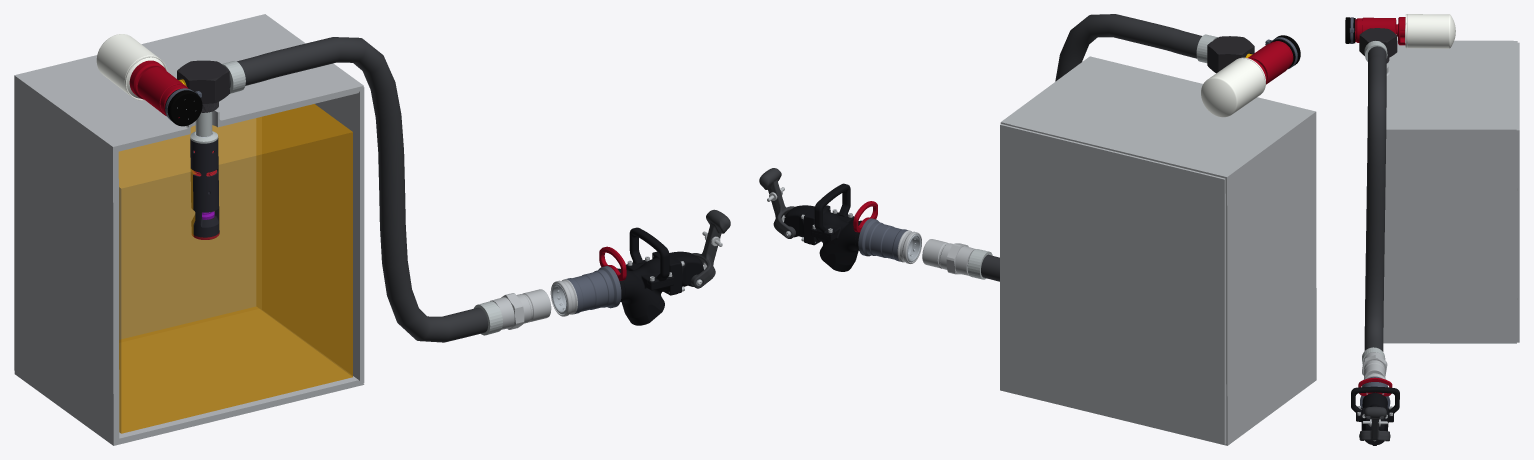
The model's file is system-pla80-v2.glb.
3 renders of one model, left to right at view 1: azimuth 30°, elevation 25°; view 2: azimuth 150°, elevation 25°; view 3: azimuth 270°, elevation 25°, orthographic. The views are drawn at different scales.
Parts seen in each view (by area): view 1: arbtank_No Back001_export, Cube.001_export, Cube_export, BézierCurve_export, N800AT Body Mod_export, FFV150-LP_export, pl80-m-3b_export, N800AT Body Mod041_export, fr1000-m-1_export, pl80HVO-m-10_export, N800AT Body Mod010_export, N800AT Body Mod017_export (+4 smaller); view 2: Cube_export, arbtank_No Back001_export, BézierCurve_export, FFV150-LP_export, N800AT Body Mod_export, N800AT Body Mod041_export, fr1000-m-1_export, pl80-m-3b_export, N800AT Body Mod010_export, FFV150-LP004_export, N800AT Body Mod017_export, N800AT Body Mod164_export; view 3: arbtank_No Back001_export, BézierCurve_export, FFV150-LP_export, Cube_export, pl80-m-3b_export, N800AT Body Mod010_export, N800AT Body Mod017_export, fr1000-m-1_export, N800AT Body Mod_export, FFV150-LP004_export, N800AT Body Mod164_export, N800AT Body Mod042_export (+4 smaller).
Boxes of the visible parts, x1,y1,x2,y2 form: arbtank_No Back001_export: (14, 14, 364, 445); Cube.001_export: (118, 104, 352, 433); Cube_export: (14, 117, 261, 370); BézierCurve_export: (229, 37, 488, 342); N800AT Body Mod_export: (617, 251, 678, 325); FFV150-LP_export: (96, 34, 167, 100); pl80-m-3b_export: (177, 60, 229, 112); N800AT Body Mod041_export: (565, 266, 621, 314); fr1000-m-1_export: (490, 289, 551, 329); pl80HVO-m-10_export: (190, 138, 218, 191); N800AT Body Mod010_export: (691, 209, 730, 288); N800AT Body Mod017_export: (626, 227, 673, 285); Cube_export: (1000, 124, 1226, 444); arbtank_No Back001_export: (1000, 56, 1316, 445); BézierCurve_export: (967, 14, 1201, 281); FFV150-LP_export: (1201, 57, 1265, 117); N800AT Body Mod_export: (807, 205, 861, 271); N800AT Body Mod041_export: (858, 218, 907, 261); fr1000-m-1_export: (922, 239, 975, 275); pl80-m-3b_export: (1207, 36, 1254, 73); N800AT Body Mod010_export: (759, 168, 795, 238); FFV150-LP004_export: (1247, 43, 1289, 84); N800AT Body Mod017_export: (811, 183, 853, 236); N800AT Body Mod164_export: (784, 205, 814, 243); arbtank_No Back001_export: (1383, 40, 1517, 343); BézierCurve_export: (1364, 46, 1386, 351); FFV150-LP_export: (1405, 14, 1455, 48); Cube_export: (1516, 42, 1519, 342); pl80-m-3b_export: (1359, 28, 1397, 63); N800AT Body Mod010_export: (1359, 406, 1390, 441); N800AT Body Mod017_export: (1351, 386, 1399, 418); fr1000-m-1_export: (1362, 352, 1387, 378); N800AT Body Mod_export: (1356, 393, 1393, 424); FFV150-LP004_export: (1362, 17, 1396, 33); N800AT Body Mod164_export: (1361, 412, 1388, 445); N800AT Body Mod042_export: (1358, 377, 1392, 396).
Bounding box in the file's own units: 1.36 × 0.7744 × 0.4672.
